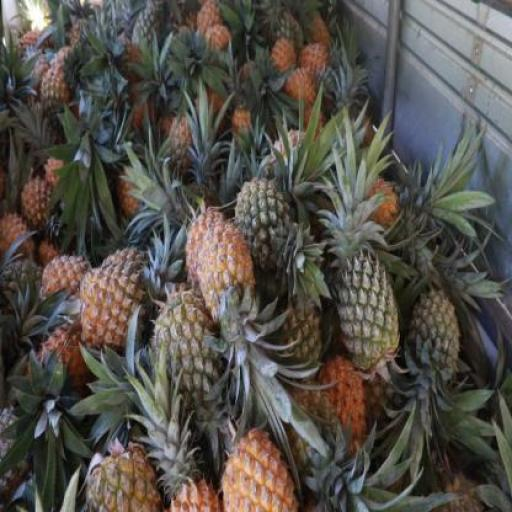------------------------------: (154, 292, 224, 400), (233, 177, 297, 276), (85, 443, 157, 512), (40, 64, 73, 122)
Pineapple - v8 v1: (80, 260, 150, 362), (218, 428, 295, 511), (201, 223, 261, 325), (184, 208, 233, 297), (40, 254, 88, 316), (19, 174, 57, 228)
